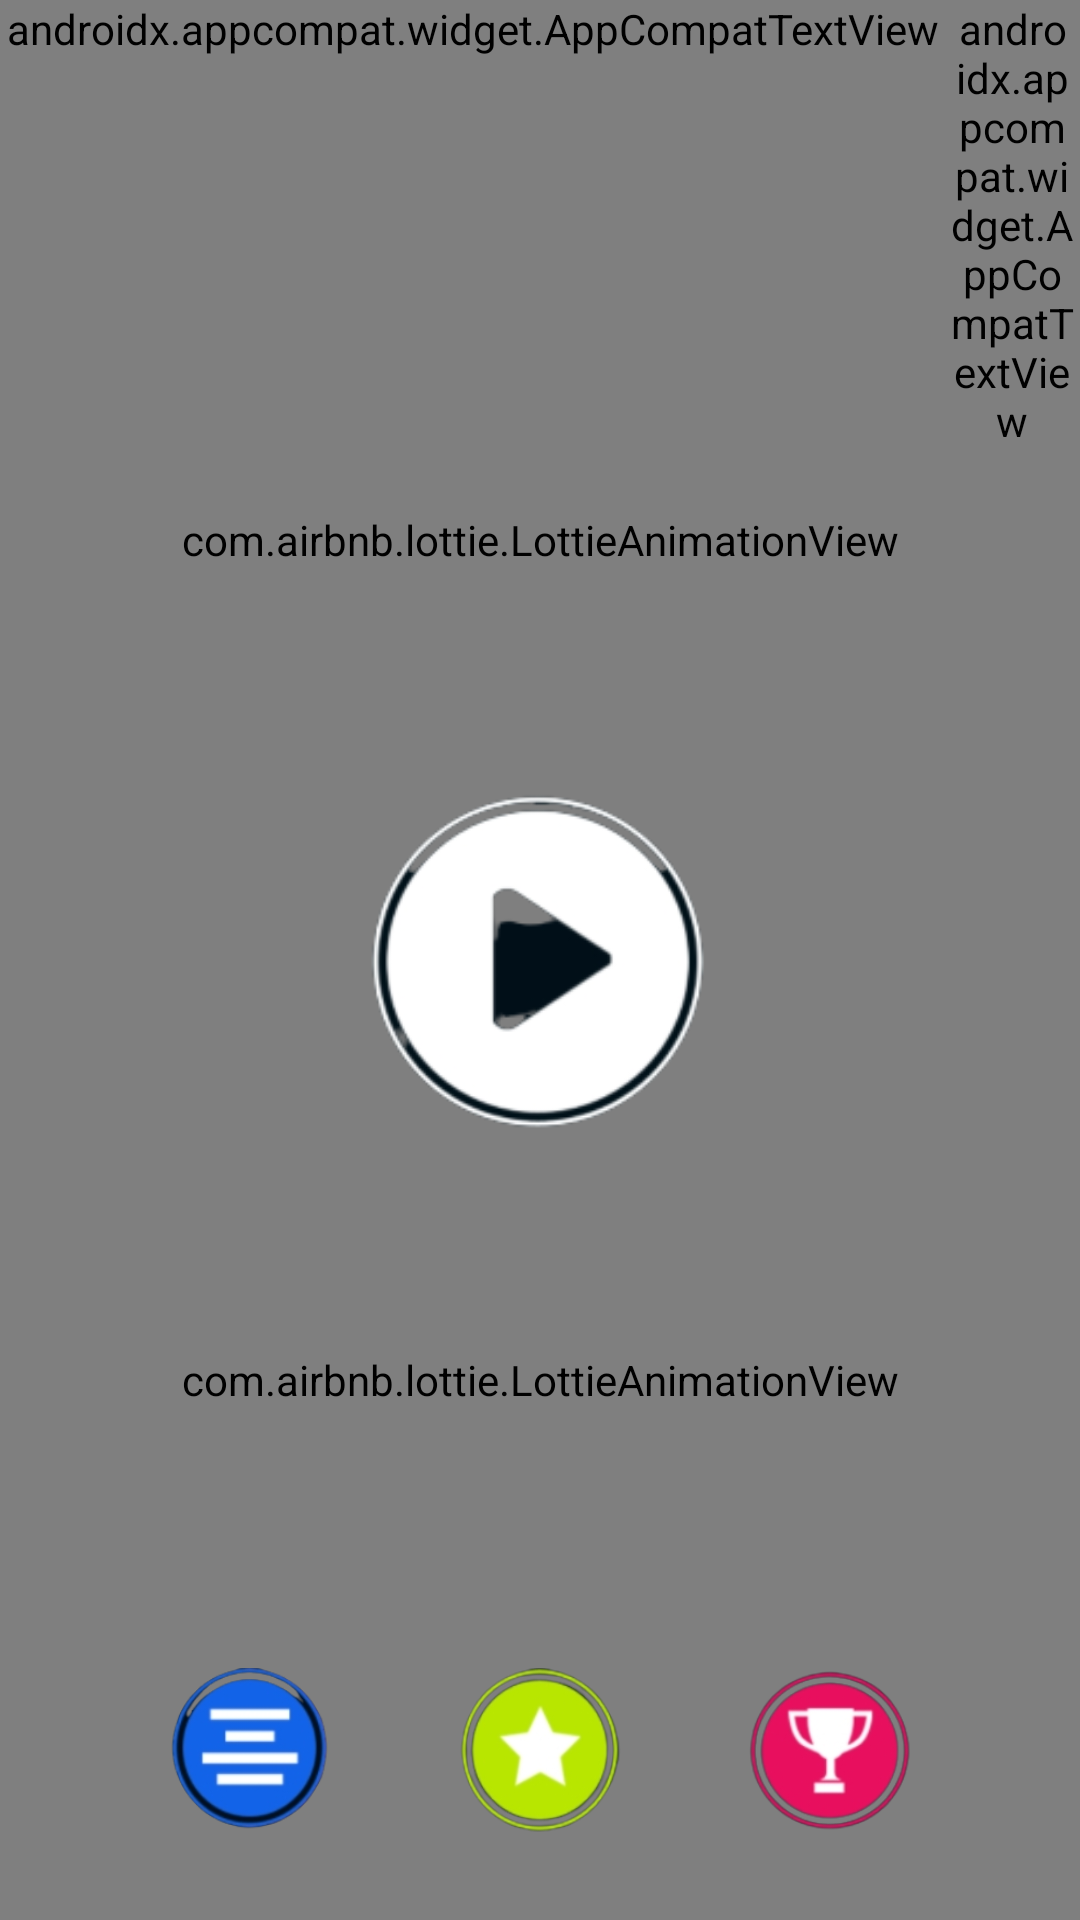

Where icons sit on this 1080×1920 app screen, as [x1=x1, y1=y1, x2=x2, y2=y2]:
best: [x1=750, y1=1672, x2=909, y2=1829]
play: [x1=373, y1=797, x2=704, y2=1127]
rating: [x1=461, y1=1668, x2=619, y2=1831]
